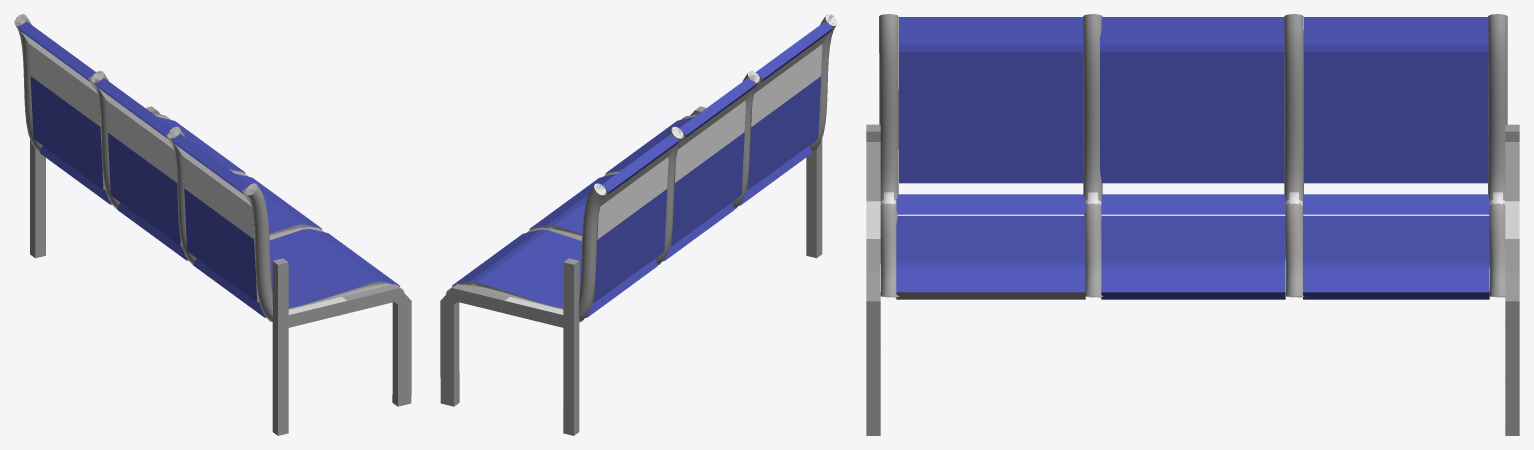
Rendered from Bench2.fbx.
3 views of the same model, side by side, from view 1: azimuth 30°, elevation 25°; view 2: azimuth 150°, elevation 25°; view 3: azimuth 270°, elevation 25° (orthographic). The views are drawn at different scales.
Visible parts, largest first — view 1: Plastic, Metalbars, HighPoly; view 2: Plastic, Metalbars, HighPoly; view 3: Plastic, Metalbars, HighPoly.
Boxes of the visible parts, box(x1,y1,x2,y2) form: Plastic: box(18, 21, 399, 318); Metalbars: box(14, 15, 411, 435); HighPoly: box(14, 14, 380, 314); Plastic: box(452, 22, 833, 317); Metalbars: box(440, 14, 836, 435); HighPoly: box(471, 14, 837, 401); Plastic: box(896, 17, 1489, 299); Metalbars: box(866, 14, 1519, 435); HighPoly: box(866, 142, 1519, 297).
Size of the model in its own units: 123 by 185 by 334.
Materials: 9 (1 with a texture image).
